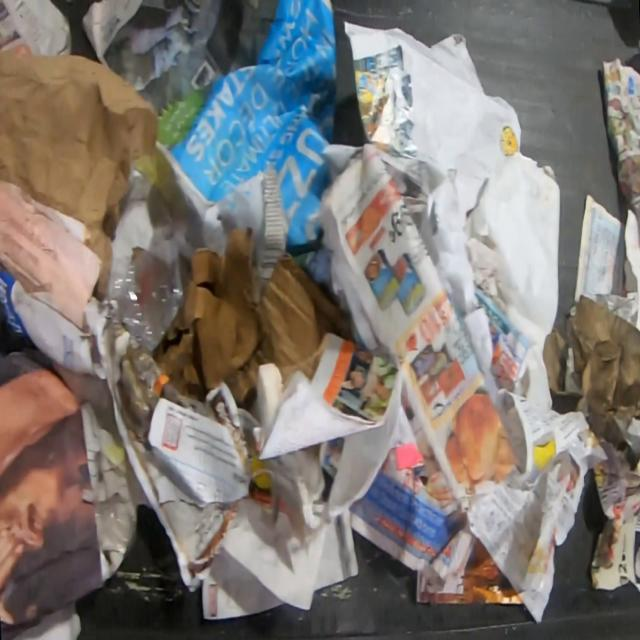cardboard: (152, 228, 356, 414), (542, 294, 640, 456)
rigid_plastic: (104, 221, 184, 353)
